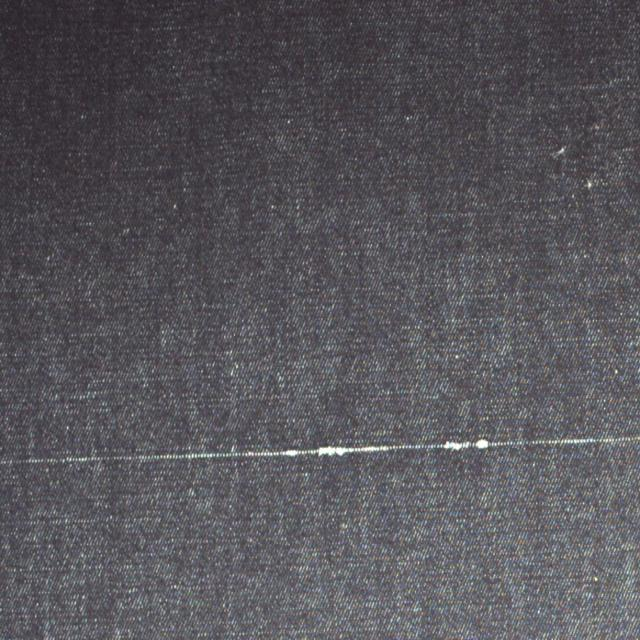Warp_Weft: (1, 424, 640, 468)
